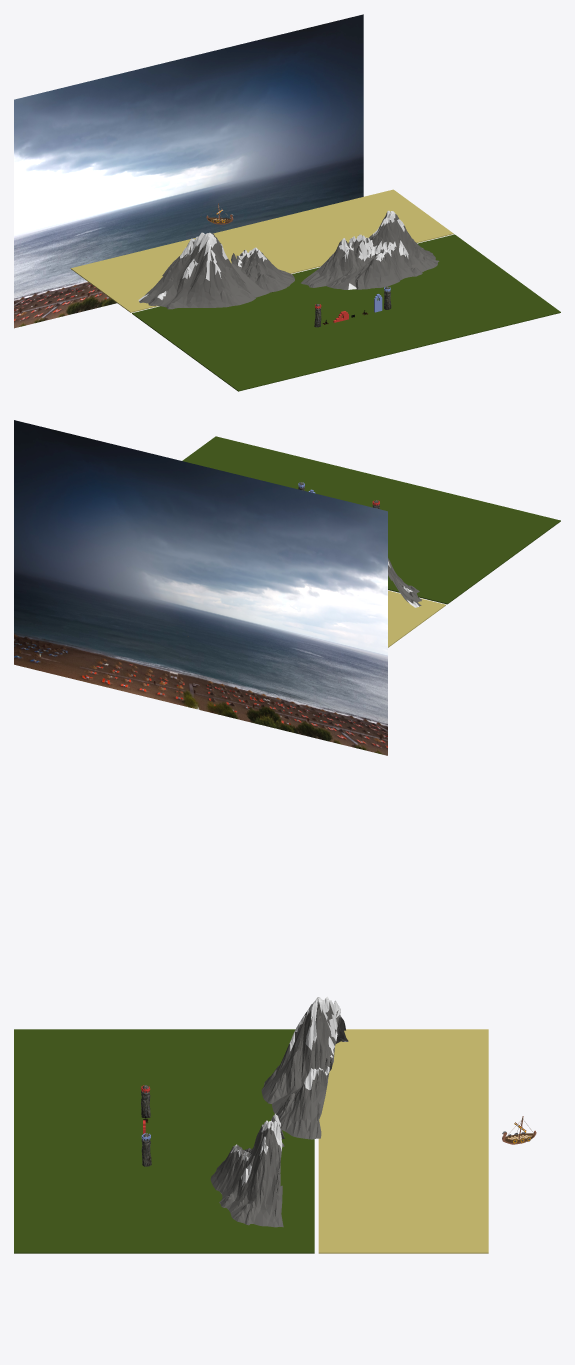
Rendered from level3.glb.
3 renders of one model, top to bottom at view 1: azimuth 30°, elevation 25°; view 2: azimuth 150°, elevation 25°; view 3: azimuth 270°, elevation 25°, orthographic. The views are drawn at different scales.
Parts seen in each view (by area): view 1: bg, Plane-ColVis, beach.001, Mountain_B_0.001, Mountain_B_0.002; view 2: bg, Plane-ColVis, beach.001, Mountain_B_0.001; view 3: Plane-ColVis, beach.001, Mountain_B_0.001, Mountain_B_0.002.
Part boxes in pixels (bbox=[...]): bg: bbox=[14, 14, 363, 328]; Plane-ColVis: bbox=[132, 234, 560, 391]; beach.001: bbox=[70, 189, 453, 312]; Mountain_B_0.001: bbox=[138, 232, 294, 309]; Mountain_B_0.002: bbox=[301, 210, 439, 289]; bg: bbox=[14, 420, 387, 755]; Plane-ColVis: bbox=[182, 436, 560, 604]; beach.001: bbox=[388, 590, 445, 647]; Mountain_B_0.001: bbox=[388, 558, 421, 607]; Plane-ColVis: bbox=[14, 1029, 314, 1253]; beach.001: bbox=[318, 1029, 488, 1253]; Mountain_B_0.001: bbox=[261, 996, 348, 1139]; Mountain_B_0.002: bbox=[210, 1113, 284, 1227].
Size of what is drawn, in the model's own units: 439 by 271 by 414.
21 materials, 2 textured.
